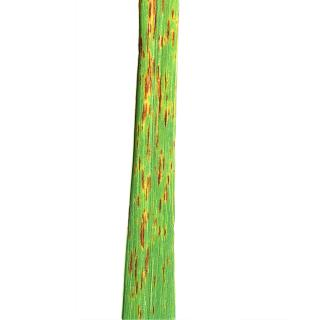Bercak-Cokelat-Sempit: (138, 52, 184, 129), (124, 250, 170, 296), (146, 0, 189, 46), (138, 212, 168, 248), (134, 158, 150, 206), (138, 301, 166, 319), (157, 150, 168, 183), (146, 131, 160, 152), (160, 186, 167, 210), (134, 138, 140, 147)
